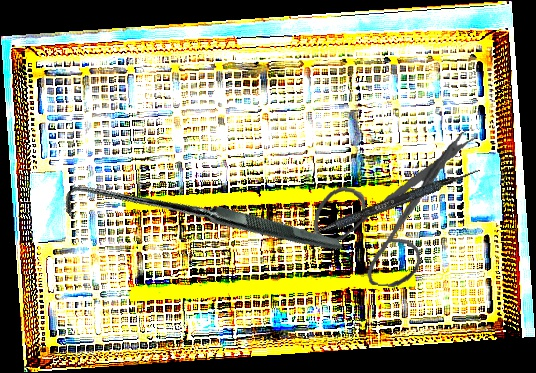Hook Surgical: (57, 79, 344, 369)
Iris Scissors: (308, 115, 476, 294)
Spatula Surgical: (288, 162, 481, 250)
